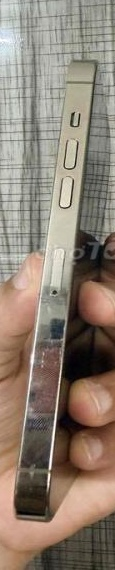scratch: (25, 288, 64, 384), (18, 393, 44, 487)
